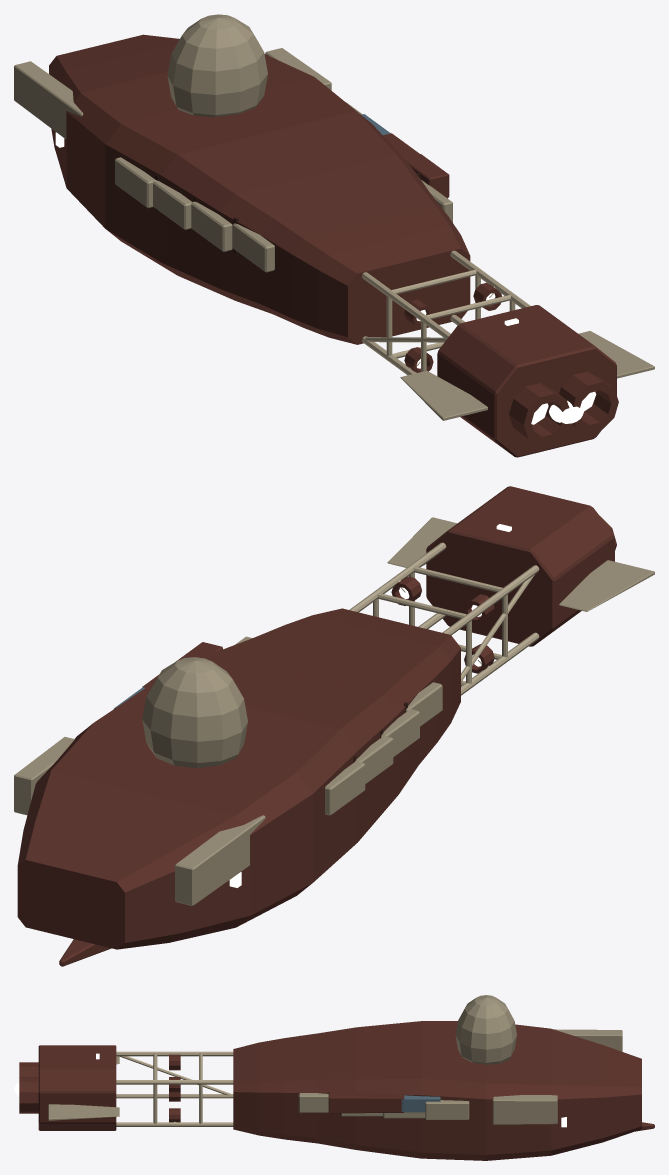
3 views of the same model, one above another, from view 1: azimuth 30°, elevation 25°; view 2: azimuth 150°, elevation 25°; view 3: azimuth 270°, elevation 25° (orthographic). The views are drawn at different scales.
Visible parts, largest first — view 1: RIMWARD_HULL, RIMWARD_EMISSIVE; view 2: RIMWARD_HULL; view 3: RIMWARD_HULL.
Part boxes in pixels (x1,y1,x2,y2): RIMWARD_HULL: [14, 14, 654, 457]; RIMWARD_EMISSIVE: [55, 132, 596, 424]; RIMWARD_HULL: [14, 486, 654, 966]; RIMWARD_HULL: [19, 995, 654, 1160].
Size of the model in its own units: 2 by 1.66 by 7.11.
